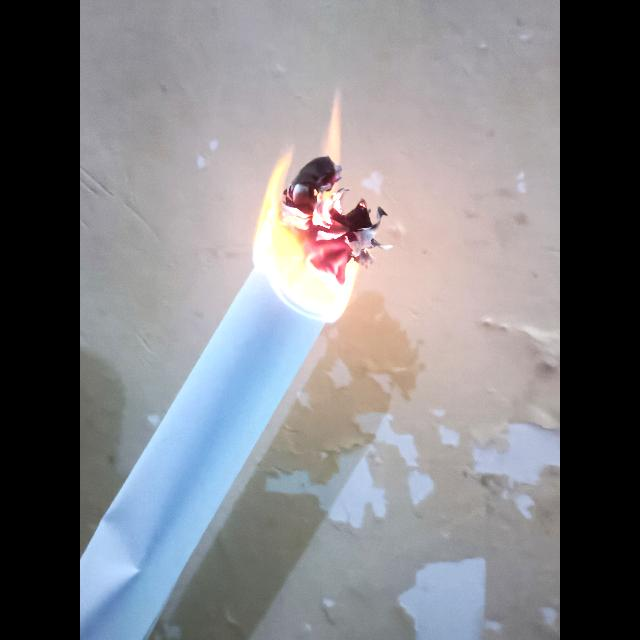fire: (255, 95, 387, 320)
